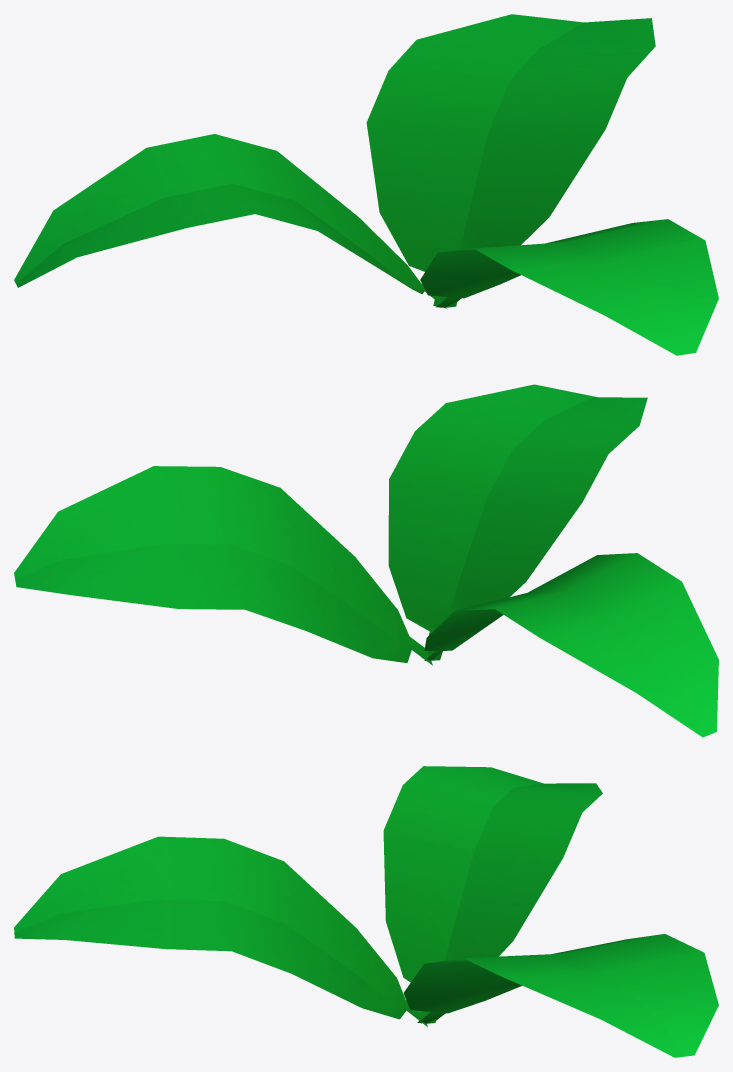
File: Foliage_5.fbx
3 renders of one model, top to bottom at view 1: azimuth 30°, elevation 25°; view 2: azimuth 150°, elevation 25°; view 3: azimuth 270°, elevation 25°, orthographic. The views are drawn at different scales.
Visible parts, largest first — view 1: Foliage_5; view 2: Foliage_5; view 3: Foliage_5.
Boxes of the visible parts, bbox=[...] form: Foliage_5: bbox=[14, 14, 718, 355]; Foliage_5: bbox=[14, 384, 718, 737]; Foliage_5: bbox=[14, 766, 718, 1057].
Size of the model in its own units: 0.9897 by 0.2428 by 0.9542.
